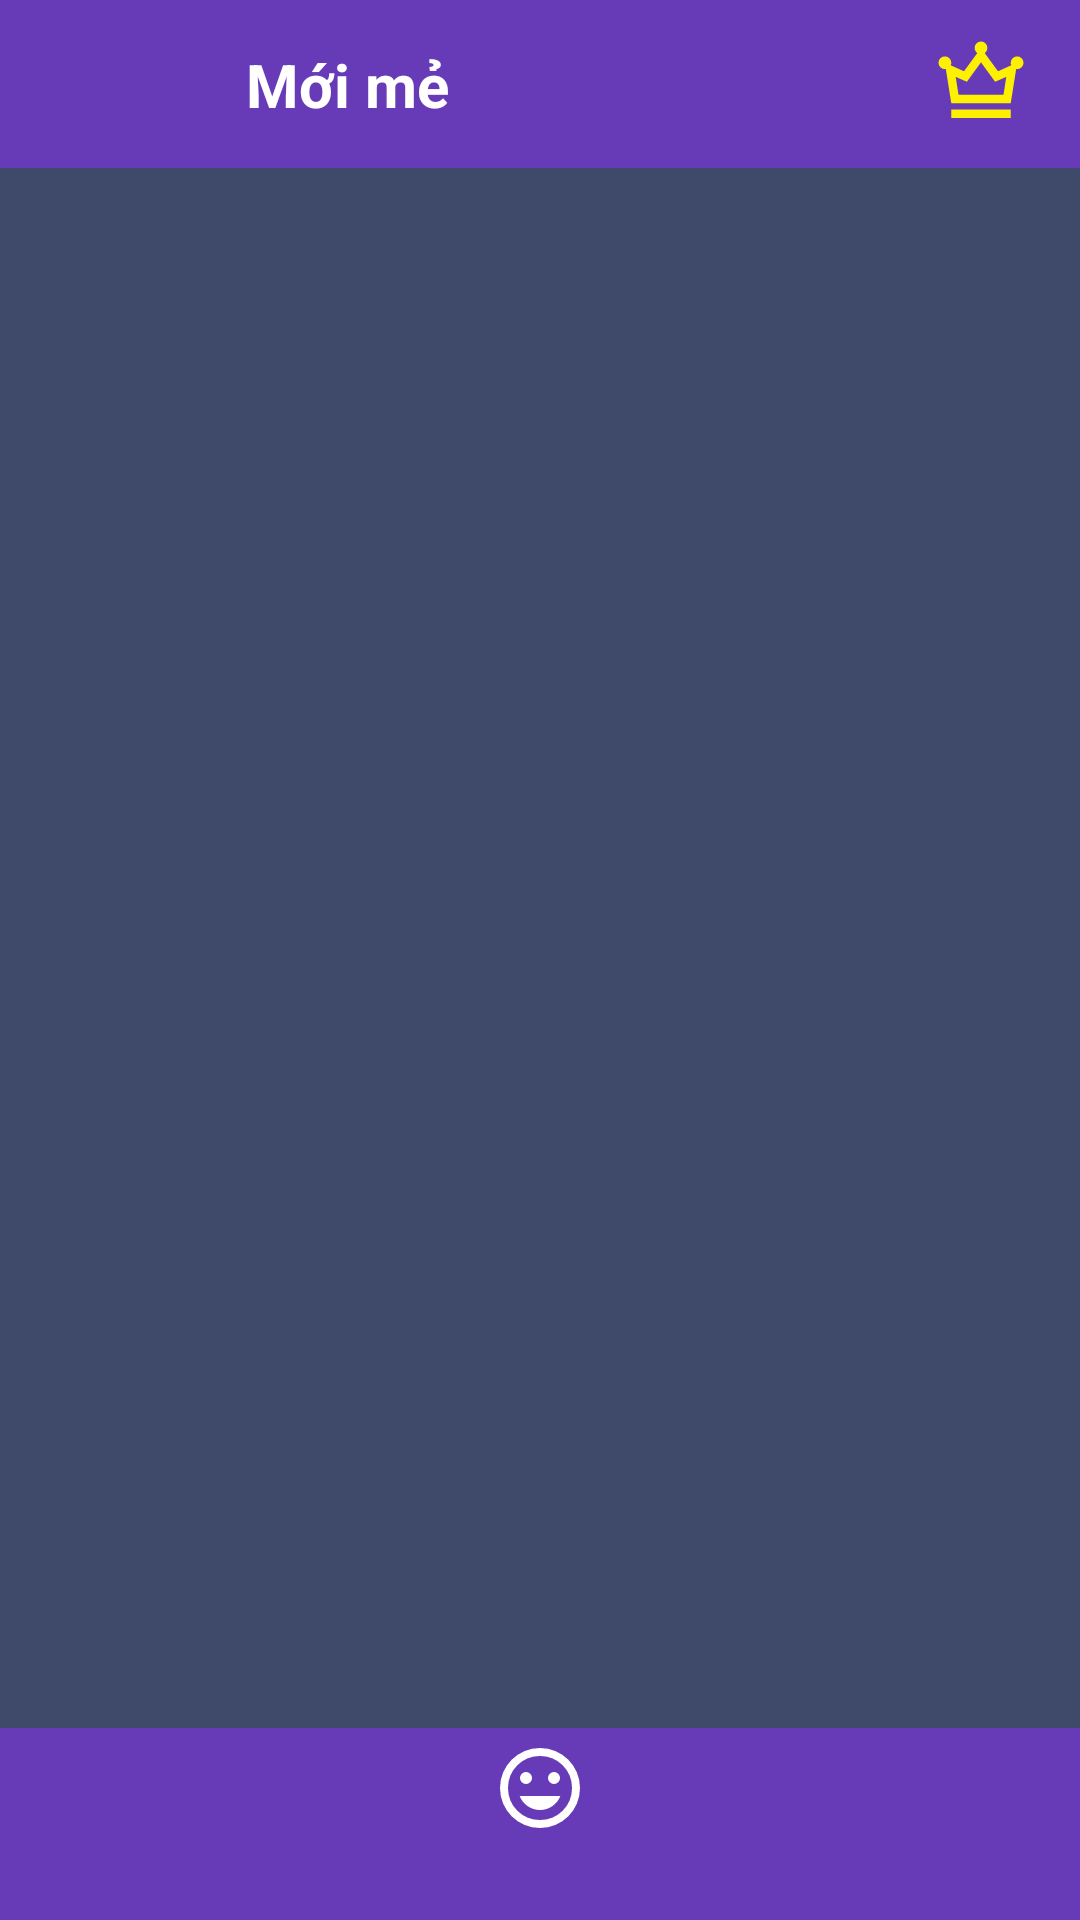

Named icons in this screenshot (1080w x 1920h) and their centers, (x=x, y=y):
crown: (x=981, y=79)
